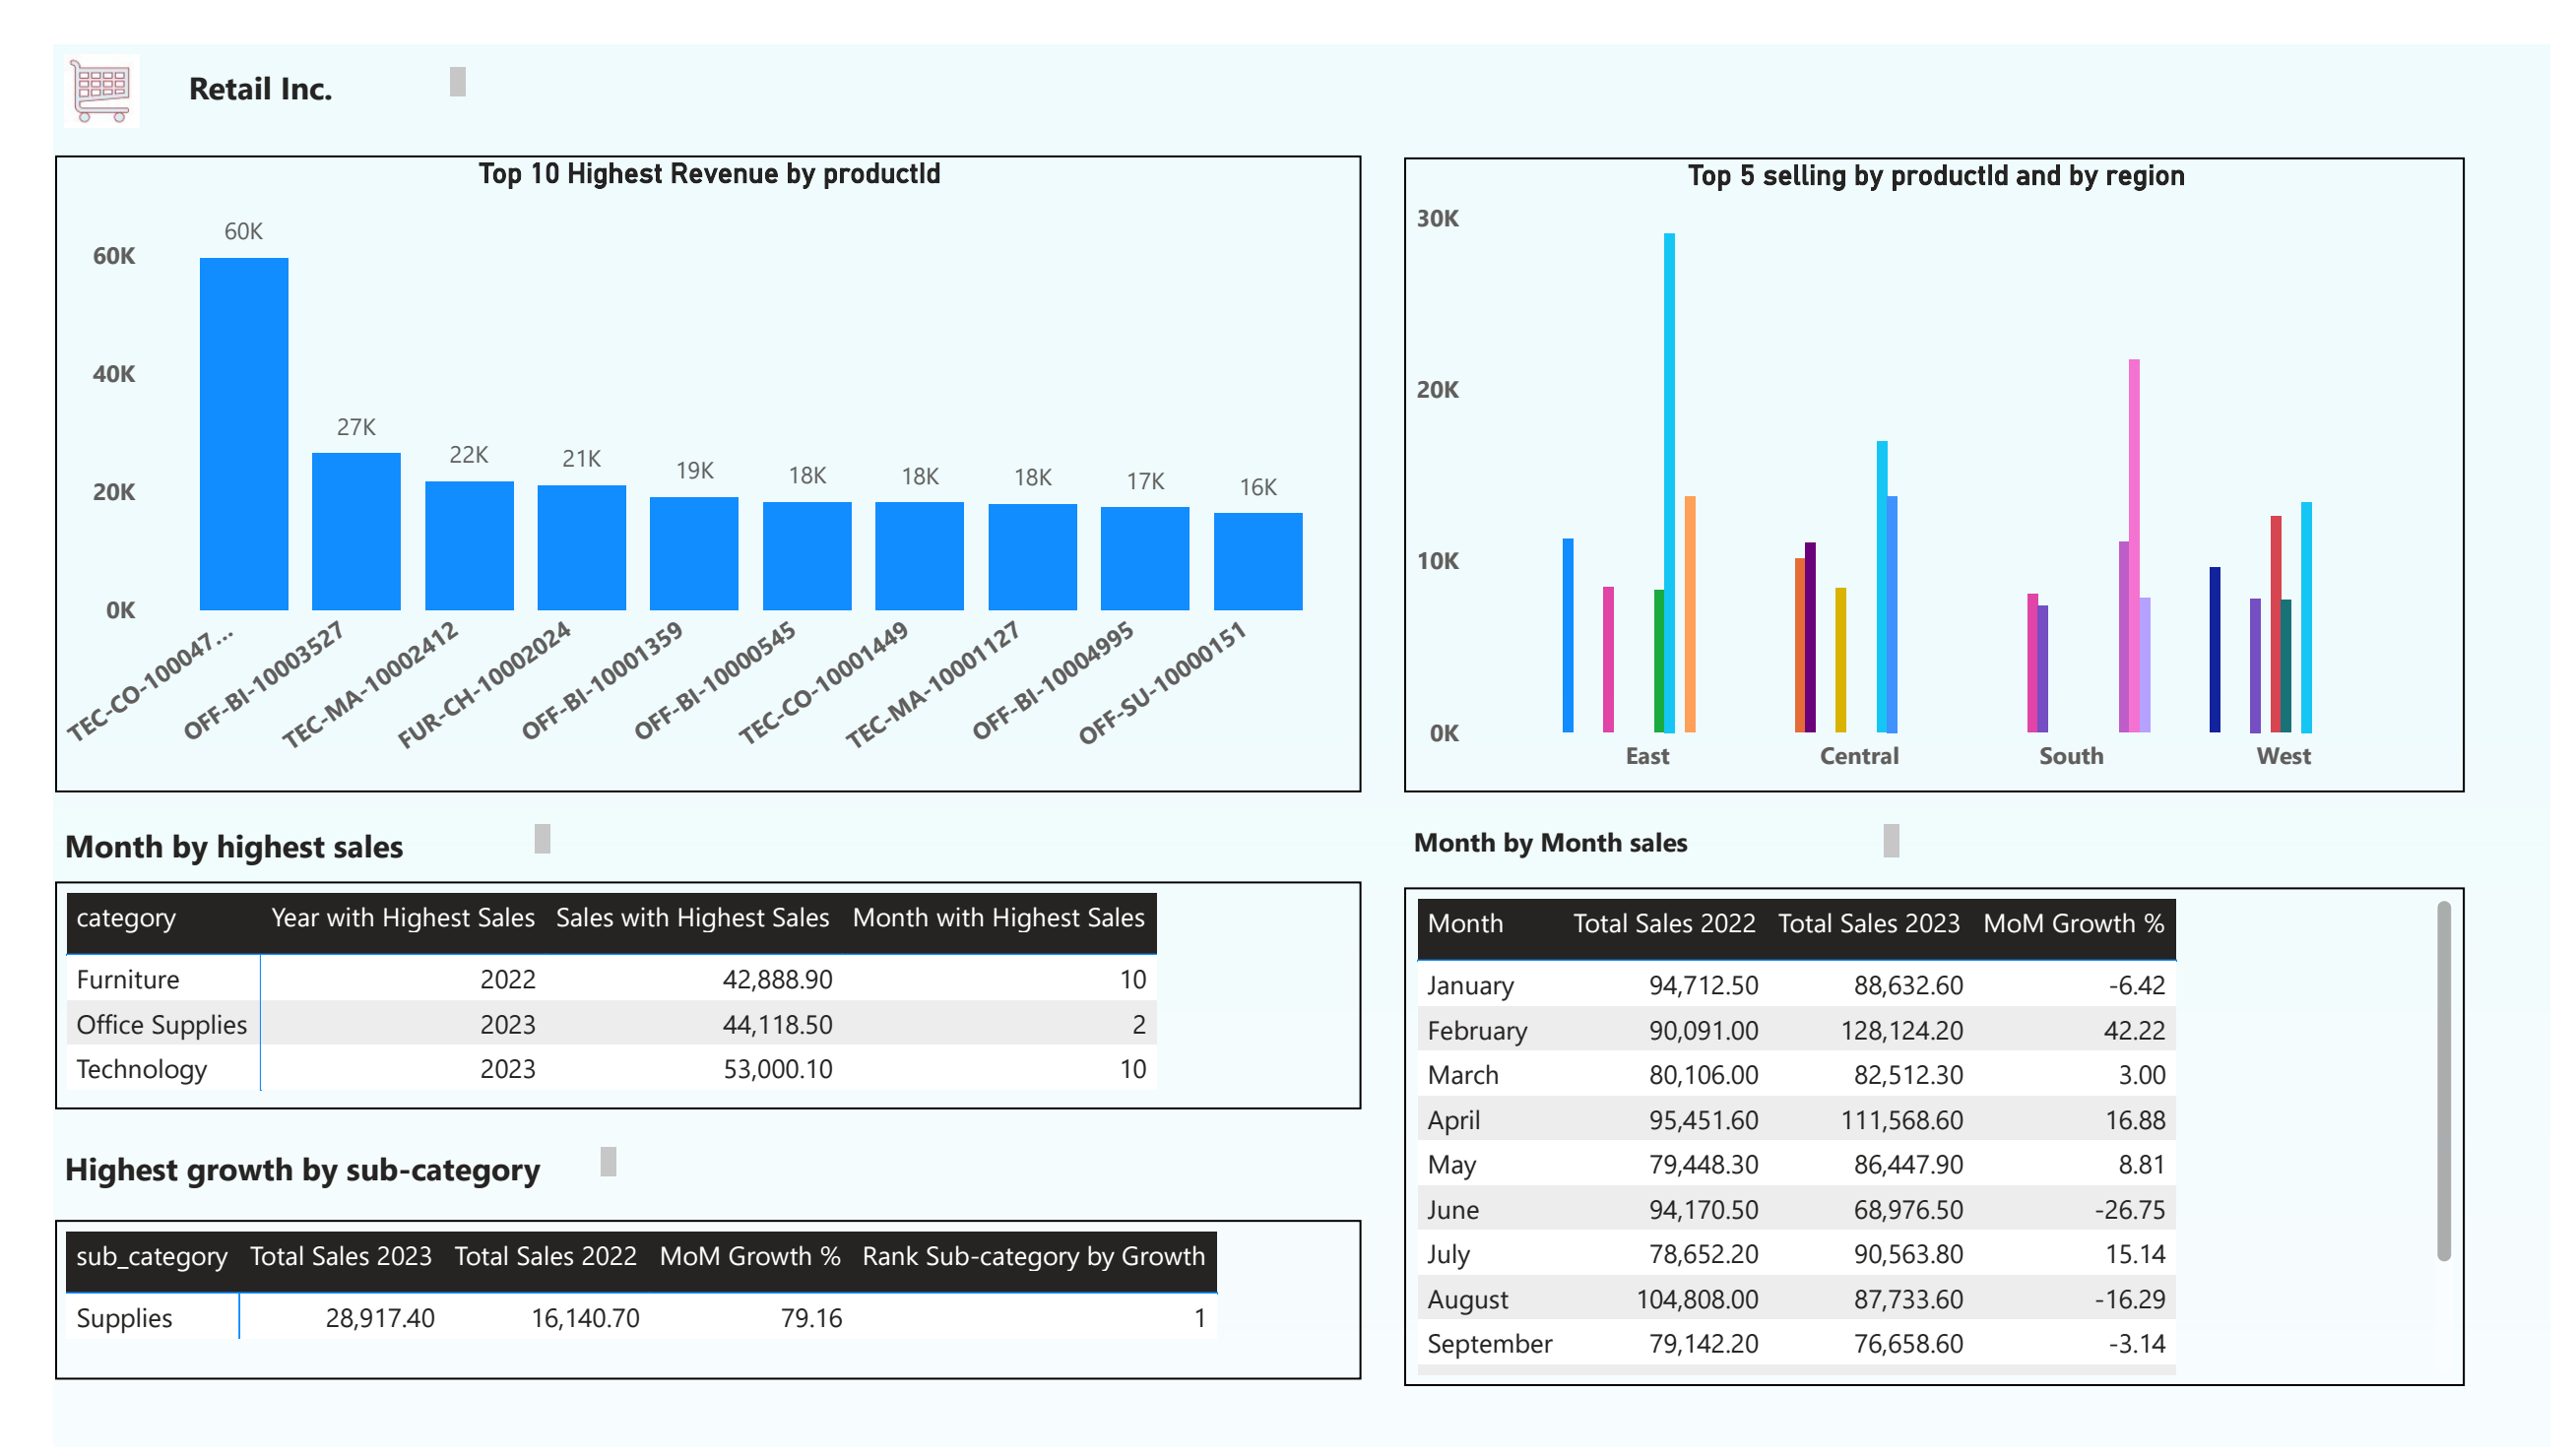

This screenshot's page, from the dashboard's own definition file:
{"tool":"powerbi","page":{"name":"Page 1","canvas":[1280,720],"ordinal":0},"visuals":[{"type":"clusteredColumnChart","title":"Top 10 Highest Revenue by productId","fields":{"Y":["Formulae.Top_10_highest_revenue_by_products"],"Category":["df_orders.product_id"]},"box":[7.1,58.6,669.7,327.3],"z":0},{"type":"tableEx","fields":{"Values":["CalendarTable.Date.Variation.Date Hierarchy.Month","Formulae.Total Sales 2022","Formulae.Total Sales 2023","Formulae.MoM Growth %"]},"box":[699,434.3,544.4,255.6],"z":2000},{"type":"pivotTable","fields":{"Values":["Formulae.Year with Highest Sales","Formulae.Sales with Highest Sales","Formulae.Month with Highest Sales"],"Rows":["df_orders.category"]},"box":[7.1,431.3,669.7,117.2],"z":2001},{"type":"pivotTable","fields":{"Values":["Formulae.Total Sales 2023","Formulae.Total Sales 2022","Formulae.MoM Growth %","Formulae.Rank Sub-category by Growth"],"Rows":["df_orders.sub_category"]},"box":[7.1,605.1,669.7,81.8],"z":2002},{"type":"image","box":[7.1,0,48.5,50.5],"z":2003},{"type":"textbox","box":[70.7,8.1,151.5,34.3],"z":2004},{"type":"textbox","box":[7.1,397,258.6,34.3],"z":2005},{"type":"textbox","box":[7.1,562.6,292.9,34.3],"z":2006},{"type":"textbox","box":[699,397,258.6,34.3],"z":2007},{"type":"clusteredColumnChart","title":"Top 5 selling by productId and by region","fields":{"Category":["df_orders.region"],"Series":["df_orders.product_id"],"Y":["Formulae.Top_5_highest_selling_products_by_region"]},"box":[699,59.6,544.4,326.3],"z":2008}]}

Visuals, with their boxes in screenshot pixels (x1, y1, x2, y2), scaled from the page's 1280x720 canvas onto the 2574x1456 screenshot:
"Top 10 Highest Revenue by productId" clusteredColumnChart: [left=14, top=118, right=1361, bottom=781]
tableEx - CalendarTable.Date.Variation.Date Hierarchy.Month x Formulae.Total Sales 2022: [left=1405, top=878, right=2500, bottom=1395]
pivotTable - Formulae.Year with Highest Sales x Formulae.Sales with Highest Sales: [left=14, top=872, right=1361, bottom=1109]
pivotTable - Formulae.Total Sales 2023 x Formulae.Total Sales 2022: [left=14, top=1224, right=1361, bottom=1389]
image: [left=14, top=0, right=112, bottom=102]
textbox: [left=142, top=17, right=447, bottom=86]
textbox: [left=14, top=803, right=535, bottom=872]
textbox: [left=14, top=1138, right=604, bottom=1207]
textbox: [left=1405, top=803, right=1926, bottom=872]
"Top 5 selling by productId and by region" clusteredColumnChart: [left=1405, top=120, right=2500, bottom=781]
